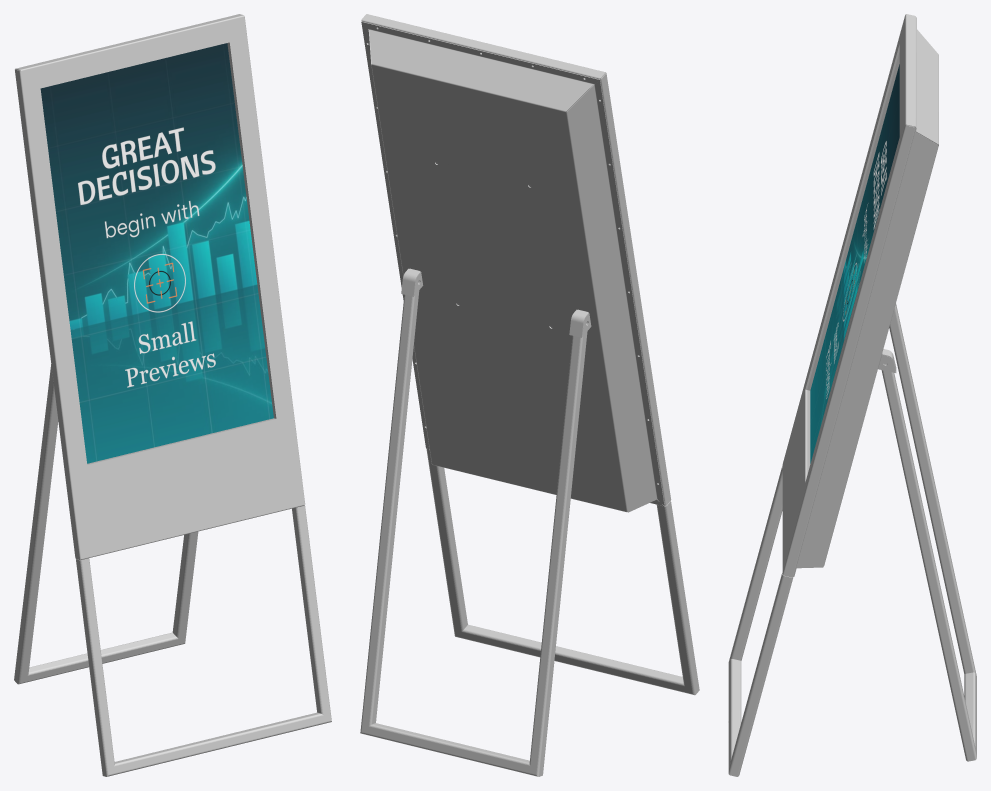
3 views of the same model, side by side, from view 1: azimuth 30°, elevation 25°; view 2: azimuth 150°, elevation 25°; view 3: azimuth 270°, elevation 25° (orthographic). The views are drawn at different scales.
Parts seen in each view (by area): view 1: 32 Inch Easel - Assy.001, 32 Inch Easel - Assy; view 2: 32 Inch Easel - Assy; view 3: 32 Inch Easel - Assy, 32 Inch Easel - Assy.001.
Boxes of the visible parts, x1,y1,x2,y2 form: 32 Inch Easel - Assy.001: (40, 43, 273, 463); 32 Inch Easel - Assy: (14, 14, 331, 776); 32 Inch Easel - Assy: (360, 14, 699, 776); 32 Inch Easel - Assy: (728, 14, 976, 776); 32 Inch Easel - Assy.001: (810, 64, 899, 463).
Size of the model in its own units: 0.491 by 1.34 by 0.4641.
Materials: 3 (1 with a texture image).
